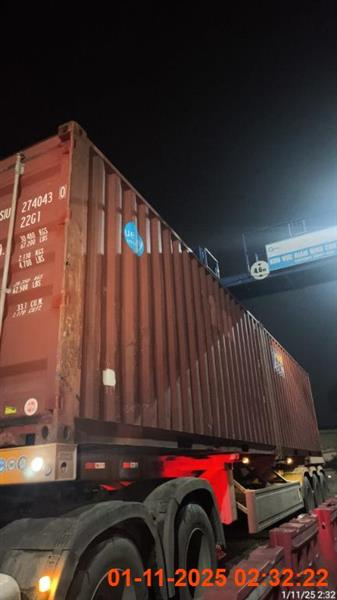broken: (0, 122, 332, 599)
